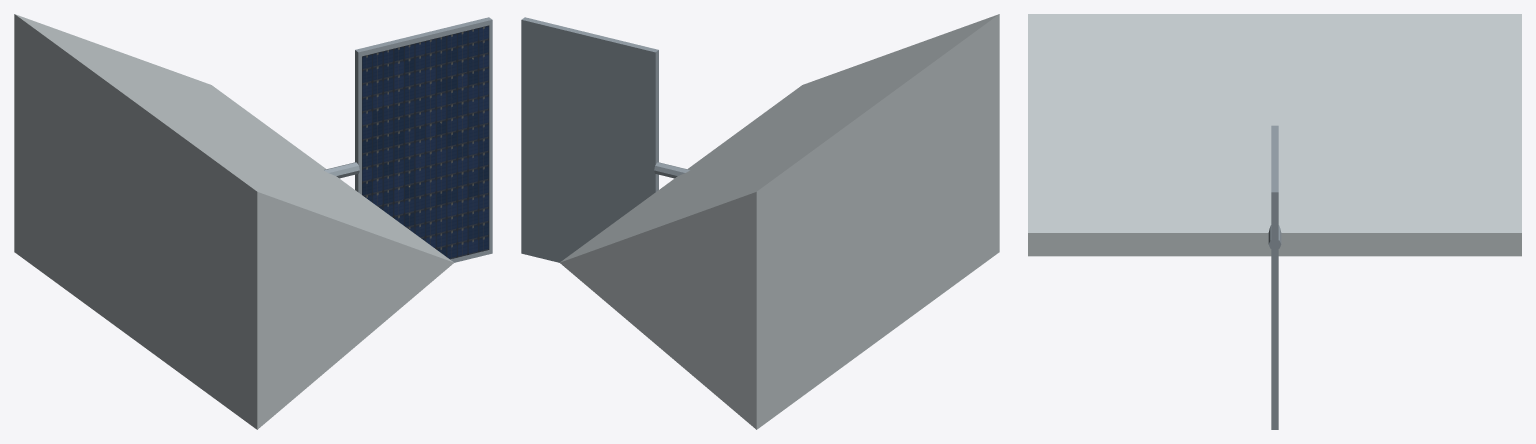
The model's file is ref-ugatusat-35869.glb.
3 renders of one model, left to right at view 1: azimuth 30°, elevation 25°; view 2: azimuth 150°, elevation 25°; view 3: azimuth 270°, elevation 25°, orthographic.
Parts seen in each view (by area): view 1: Spacecraft body, Photovoltaic laminates, Array frame; view 2: Spacecraft body, Array frame; view 3: Spacecraft body, Array frame.
Boxes of the visible parts, x1=… form: Spacecraft body: x1=14, y1=14, x2=453, y2=429; Photovoltaic laminates: x1=362, y1=25, x2=489, y2=259; Array frame: x1=355, y1=17, x2=492, y2=262; Spacecraft body: x1=560, y1=14, x2=999, y2=429; Array frame: x1=521, y1=17, x2=658, y2=262; Spacecraft body: x1=1028, y1=14, x2=1521, y2=256; Array frame: x1=1271, y1=125, x2=1278, y2=429.
Size of the model in its own units: 0.675 by 0.433 by 0.8.
3 materials, 1 textured.
